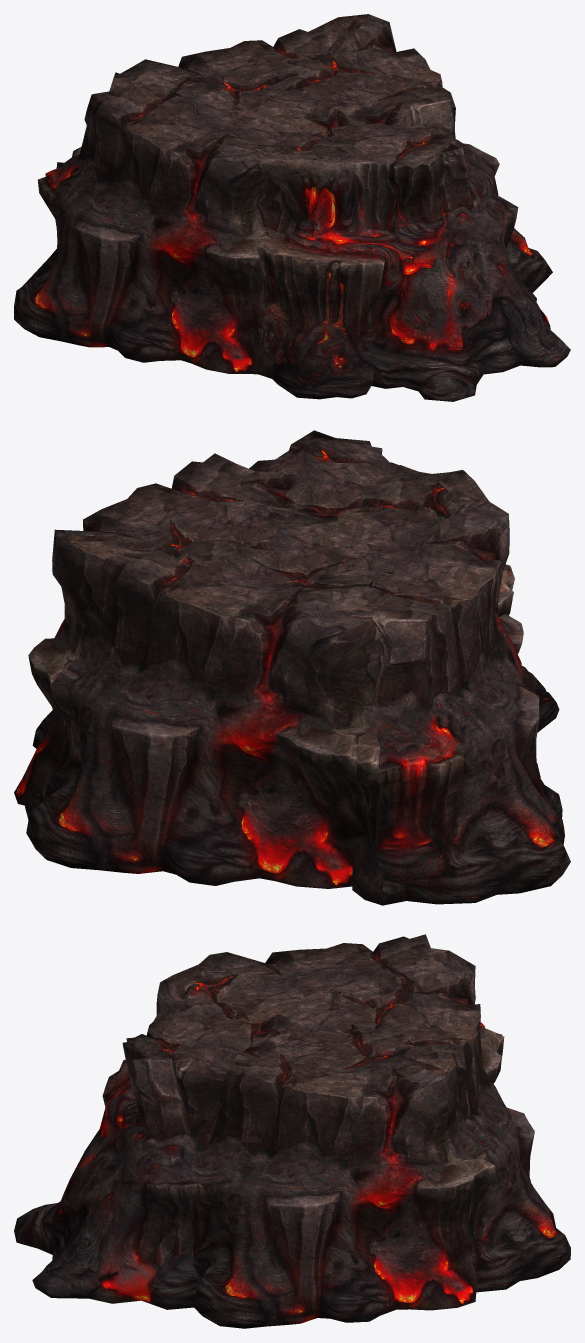
The model's file is Ground.FBX.
The picture shows the model from 3 angles, top to bottom: view 1: azimuth 30°, elevation 25°; view 2: azimuth 150°, elevation 25°; view 3: azimuth 270°, elevation 25°; orthographic projection. The views are drawn at different scales.
Visible parts, largest first — view 1: Ground; view 2: Ground; view 3: Ground.
Part boxes in pixels (x1=…): Ground: x1=14, y1=14, x2=570, y2=401; Ground: x1=14, y1=430, x2=570, y2=905; Ground: x1=14, y1=934, x2=570, y2=1328.
Bounding box in the file's own units: 3080 × 3122 × 1338.
